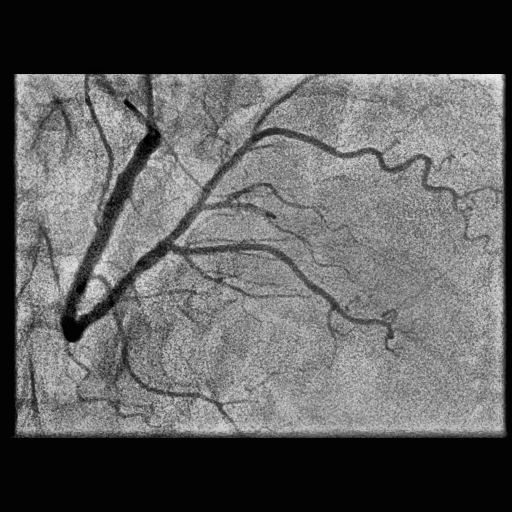pborca: (164, 127, 491, 250)
pda: (169, 244, 396, 353)
rca: (60, 135, 172, 342)
